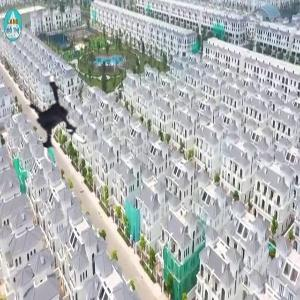drone: (15, 75, 108, 168)
